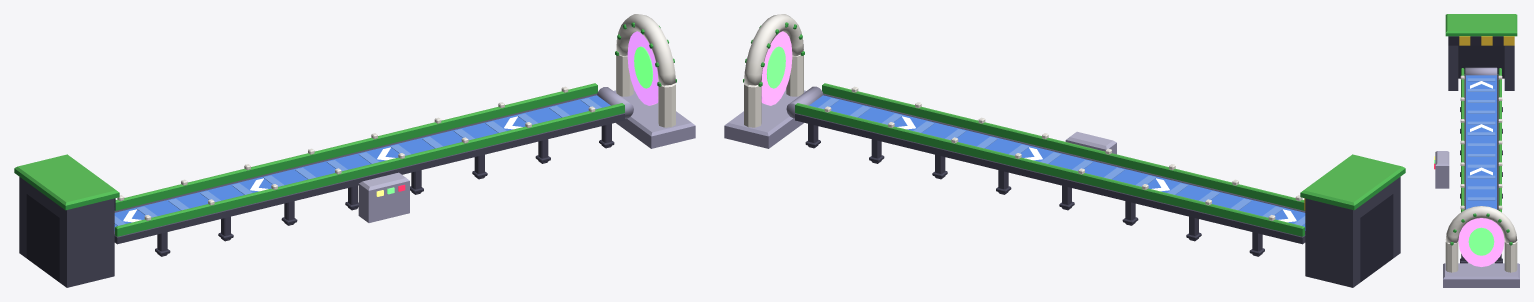
File: Conveyor_3.glb
3 renders of one model, left to right at view 1: azimuth 30°, elevation 25°; view 2: azimuth 150°, elevation 25°; view 3: azimuth 270°, elevation 25°, orthographic. The views are drawn at different scales.
Parts seen in each view (by area): view 1: Conveyor_3, Conveyor_3_Glow_portal, Conveyor_3_Glow_acc3, Conveyor_3_Glow_belt; view 2: Conveyor_3, Conveyor_3_Glow_portal, Conveyor_3_Glow_acc3, Conveyor_3_Glow_belt; view 3: Conveyor_3, Conveyor_3_Glow_portal, Conveyor_3_Glow_acc3, Conveyor_3_Glow_belt.
Part boxes in pixels (left/top/right/bottom): Conveyor_3: left=14, top=14, right=695, bottom=287; Conveyor_3_Glow_portal: left=627, top=31, right=658, bottom=105; Conveyor_3_Glow_acc3: left=634, top=46, right=653, bottom=88; Conveyor_3_Glow_belt: left=123, top=116, right=522, bottom=222; Conveyor_3: left=724, top=14, right=1405, bottom=287; Conveyor_3_Glow_portal: left=761, top=31, right=792, bottom=105; Conveyor_3_Glow_acc3: left=766, top=46, right=785, bottom=88; Conveyor_3_Glow_belt: left=897, top=116, right=1296, bottom=222; Conveyor_3: left=1435, top=14, right=1519, bottom=287; Conveyor_3_Glow_portal: left=1458, top=218, right=1504, bottom=266; Conveyor_3_Glow_acc3: left=1468, top=227, right=1494, bottom=255; Conveyor_3_Glow_belt: left=1470, top=81, right=1492, bottom=175.
Size of the model in its own units: 79.2 by 13 by 13.4.
Materials: 7 (1 with a texture image).
